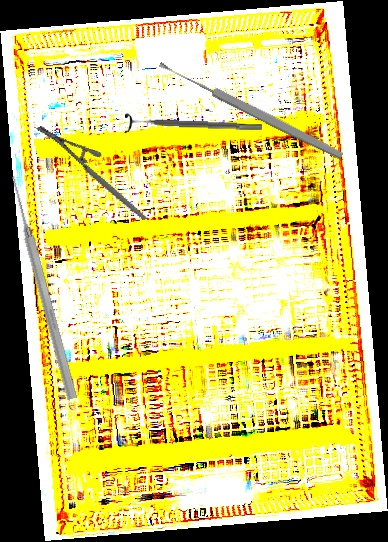Fixation Ring: (124, 111, 263, 139)
Needle Holder: (35, 102, 148, 245)
Pusher: (5, 174, 81, 401)
Surgical Spoon: (157, 58, 345, 162)
